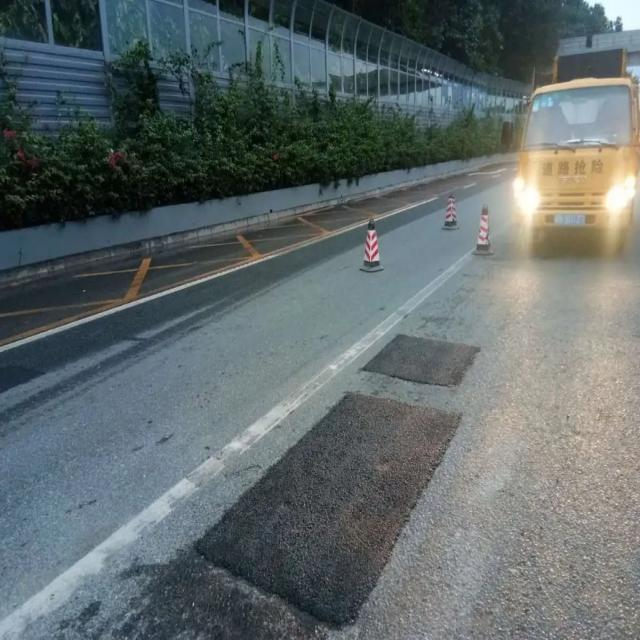Pothole: (191, 392, 466, 623), (362, 332, 480, 389)
